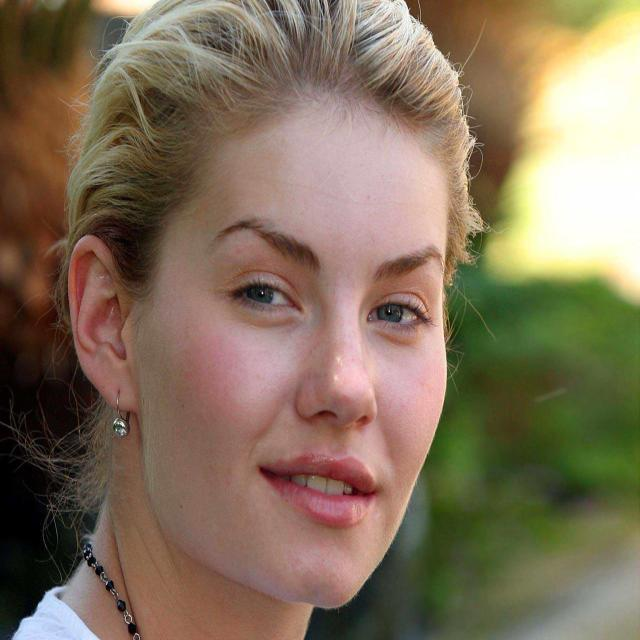no-earmuff: (55, 221, 172, 452)
